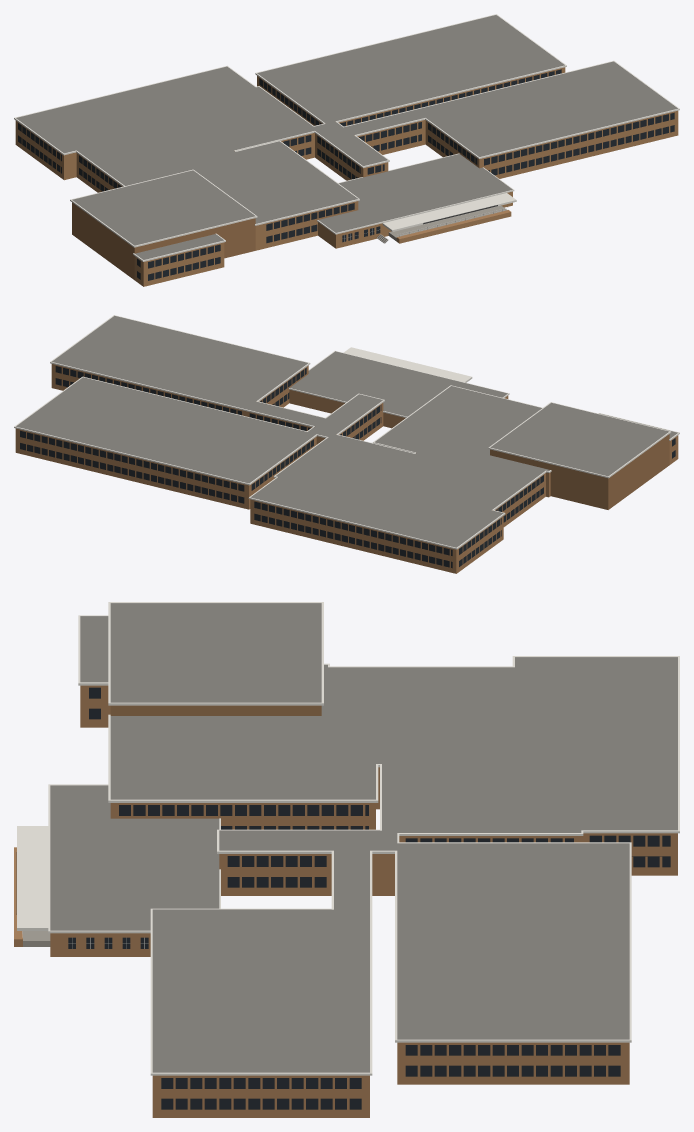
The model's file is hall-high-school.glb.
3 renders of one model, top to bottom at view 1: azimuth 30°, elevation 25°; view 2: azimuth 150°, elevation 25°; view 3: azimuth 270°, elevation 25°, orthographic. The views are drawn at different scales.
Visible parts, largest first — view 1: hall_roof, hall_brick, hall_glass, hall_trim, hall_brick2, hall_base; view 2: hall_roof, hall_brick, hall_glass, hall_trim, hall_brick2; view 3: hall_roof, hall_brick, hall_trim, hall_glass, hall_brick2.
Boxes of the visible parts, x1=… form: hall_roof: x1=16, y1=15, x2=677, y2=259; hall_brick: x1=15, y1=67, x2=678, y2=286; hall_glass: x1=18, y1=69, x2=674, y2=280; hall_trim: x1=14, y1=14, x2=679, y2=261; hall_brick2: x1=72, y1=202, x2=255, y2=279; hall_base: x1=376, y1=205, x2=507, y2=243; hall_roof: x1=16, y1=316, x2=677, y2=547; hall_brick: x1=15, y1=364, x2=678, y2=573; hall_glass: x1=20, y1=366, x2=675, y2=568; hall_trim: x1=14, y1=315, x2=679, y2=549; hall_brick2: x1=490, y1=434, x2=669, y2=509; hall_roof: x1=50, y1=603, x2=677, y2=1072; hall_brick: x1=14, y1=685, x2=677, y2=1117; hall_trim: x1=17, y1=602, x2=679, y2=1075; hall_glass: x1=68, y1=687, x2=670, y2=1109; hall_brick2: x1=110, y1=705, x2=321, y2=715.
Bounding box in the file's own units: 180 × 10.65 × 110.
